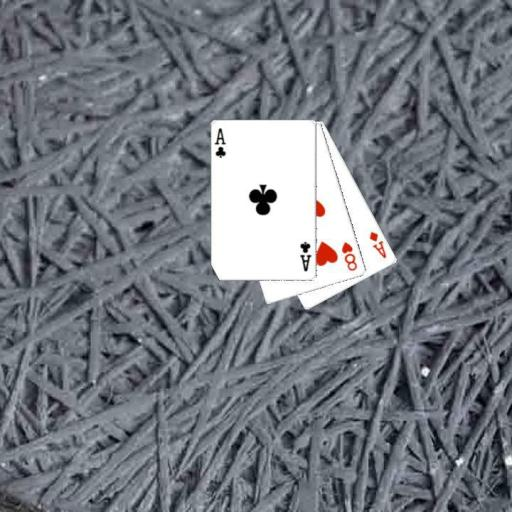8H: (339, 239, 359, 273)
AC: (297, 239, 313, 273), (212, 125, 227, 160)
AD: (366, 229, 388, 261)
